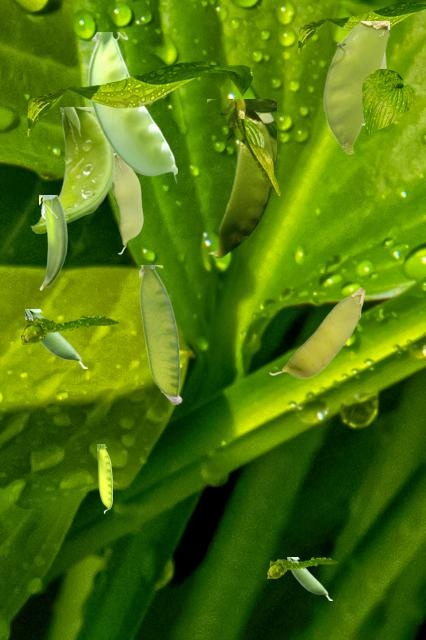pea: (87, 32, 176, 183), (207, 99, 275, 257), (30, 107, 113, 232), (323, 21, 388, 153), (269, 287, 364, 377), (139, 265, 181, 403), (25, 309, 86, 367), (111, 154, 142, 253), (39, 195, 67, 289), (287, 557, 331, 599), (97, 444, 111, 512), (382, 55, 387, 68)
